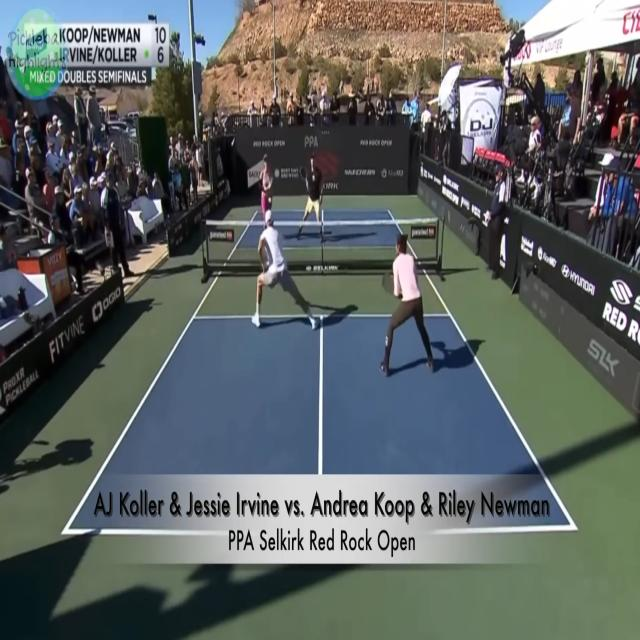ball: (267, 195, 273, 205)
